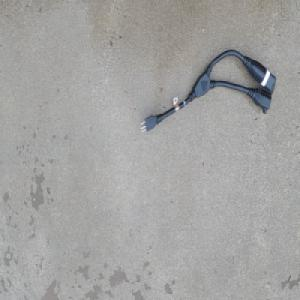Wire: (139, 48, 276, 135)
